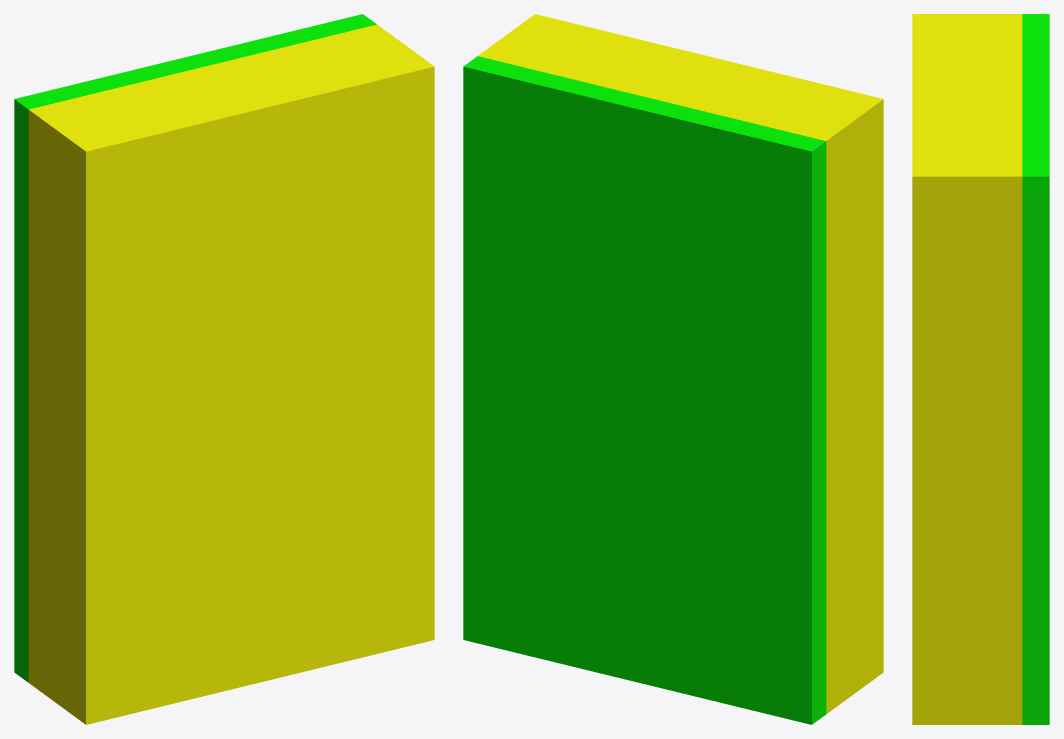
The model's file is nil_link_mesh.dae.
3 views of the same model, side by side, from view 1: azimuth 30°, elevation 25°; view 2: azimuth 150°, elevation 25°; view 3: azimuth 270°, elevation 25° (orthographic). The views are drawn at different scales.
Parts seen in each view (by area): view 1: nil_link (×2); view 2: nil_link (×2); view 3: nil_link (×2).
Part boxes in pixels (x1=…): nil_link (×2): x1=14, y1=14, x2=434, y2=724; nil_link (×2): x1=463, y1=14, x2=883, y2=724; nil_link (×2): x1=912, y1=14, x2=1049, y2=724.
Bounding box in the file's own units: 0.07 × 0.11 × 0.025.
